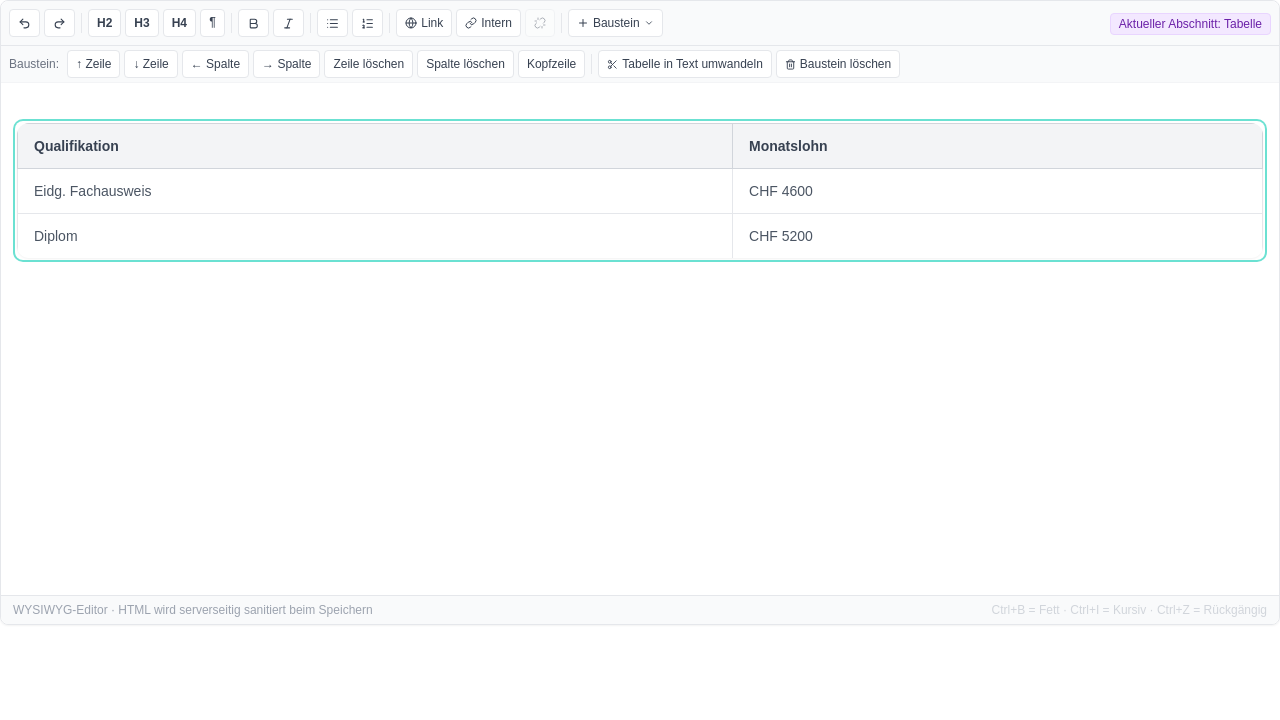
it: 1 – Bestätigung erscheint statt eines nativen Dialogs › beide Schalter sind eindeutig beschriftet
Step 1. Press the mouse on the button with test id "btn-del-col" → (466, 64), box [417,50,514,78]
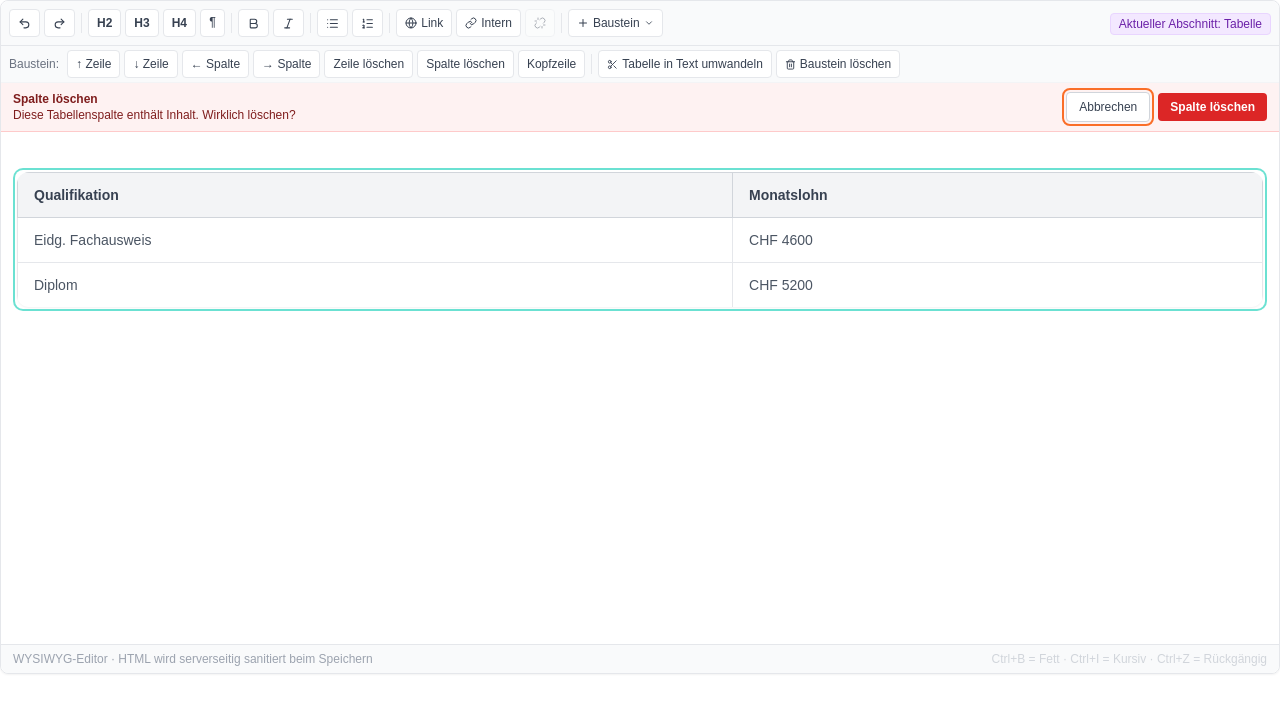
Expected: the button with test id "block-confirm-cancel" reads "Abbrechen", [1066,92,1150,122]
Expected: the button with test id "block-confirm-accept" reads "Spalte löschen", [1158,93,1267,121]
